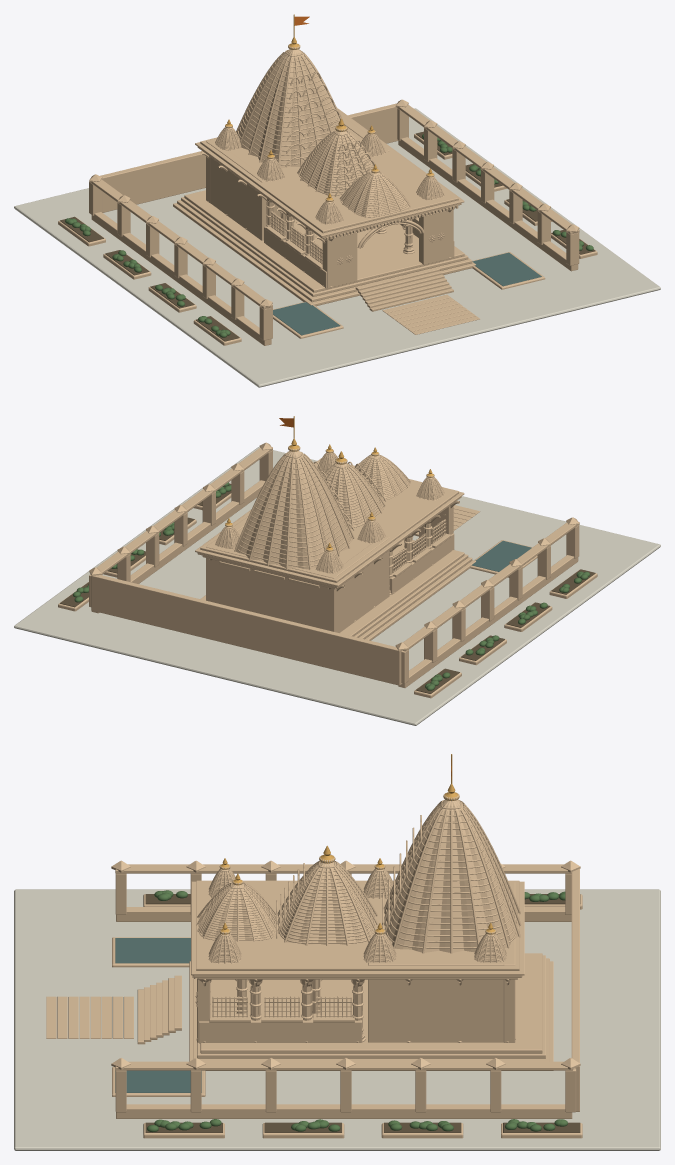
The model's file is temple.glb.
3 views of the same model, one above another, from view 1: azimuth 30°, elevation 25°; view 2: azimuth 150°, elevation 25°; view 3: azimuth 270°, elevation 25° (orthographic). The views are drawn at different scales.
Visible parts, largest first — view 1: Architecture Warm Bansi inspired sandstone, Architecture Ivory limestone floor, Architecture Pale carved sandstone, Architecture Still water, Architecture Garden earth, Architecture Low garden greenery; view 2: Architecture Warm Bansi inspired sandstone, Architecture Ivory limestone floor, Architecture Pale carved sandstone, Architecture Garden earth, Architecture Low garden greenery, Architecture Still water, Architecture Aged warm gold; view 3: Architecture Ivory limestone floor, Architecture Warm Bansi inspired sandstone, Architecture Pale carved sandstone, Architecture Still water, Architecture Garden earth, Architecture Low garden greenery, Architecture Aged warm gold.
Boxes of the visible parts, x1,y1,x2,y2 form: Architecture Warm Bansi inspired sandstone: (58, 49, 597, 345); Architecture Ivory limestone floor: (14, 108, 660, 387); Architecture Pale carved sandstone: (89, 43, 579, 334); Architecture Still water: (273, 252, 541, 335); Architecture Garden earth: (60, 131, 595, 341); Architecture Low garden greenery: (65, 134, 593, 337); Architecture Warm Bansi inspired sandstone: (58, 450, 597, 698); Architecture Ivory limestone floor: (14, 446, 660, 725); Architecture Pale carved sandstone: (89, 442, 579, 651); Architecture Garden earth: (60, 483, 595, 693); Architecture Low garden greenery: (73, 482, 590, 690); Architecture Still water: (472, 540, 531, 571); Architecture Aged warm gold: (225, 416, 434, 551); Architecture Ivory limestone floor: (14, 889, 660, 1150); Architecture Warm Bansi inspired sandstone: (112, 800, 582, 1138); Architecture Pale carved sandstone: (46, 792, 580, 1070); Architecture Still water: (115, 938, 201, 1092); Architecture Garden earth: (145, 894, 580, 1132); Architecture Low garden greenery: (147, 890, 567, 1131); Architecture Aged warm gold: (220, 754, 495, 934).
Size of what is drawn, in the model's own units: 36 by 17.37 by 38.
